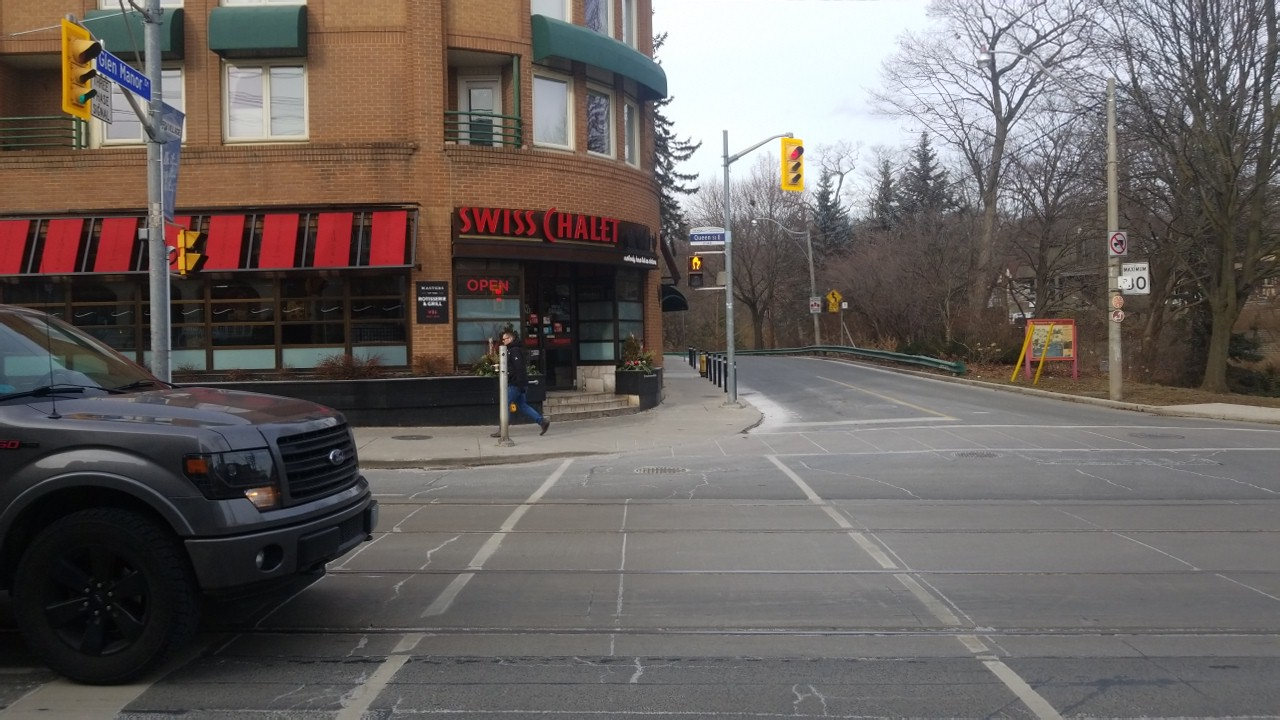light: (686, 253, 705, 290)
